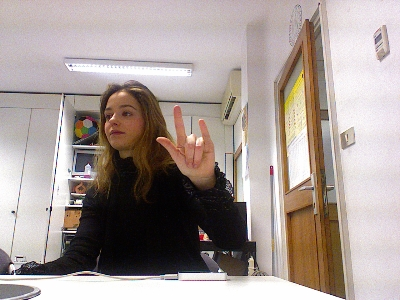我爱你: (154, 103, 216, 181)
